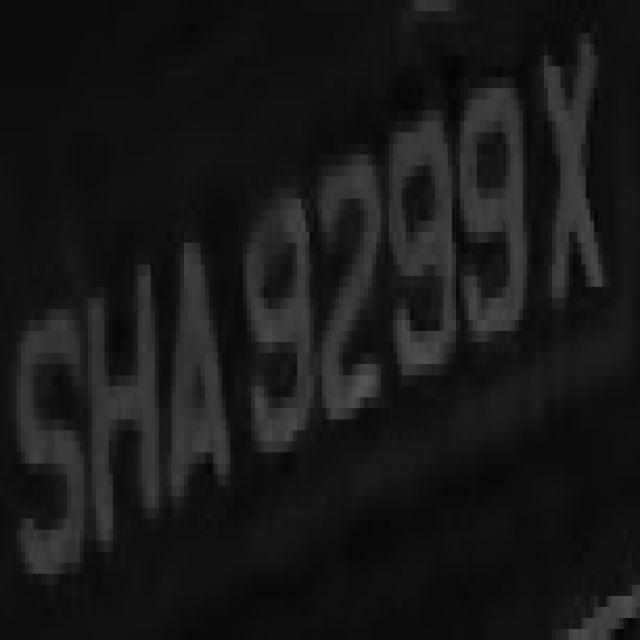2: (301, 110, 381, 474)
9: (368, 89, 469, 398), (238, 155, 314, 508), (448, 66, 527, 375)
A: (150, 209, 238, 552)
H: (76, 232, 168, 574)
S: (8, 254, 92, 607)
X: (527, 22, 607, 342)
